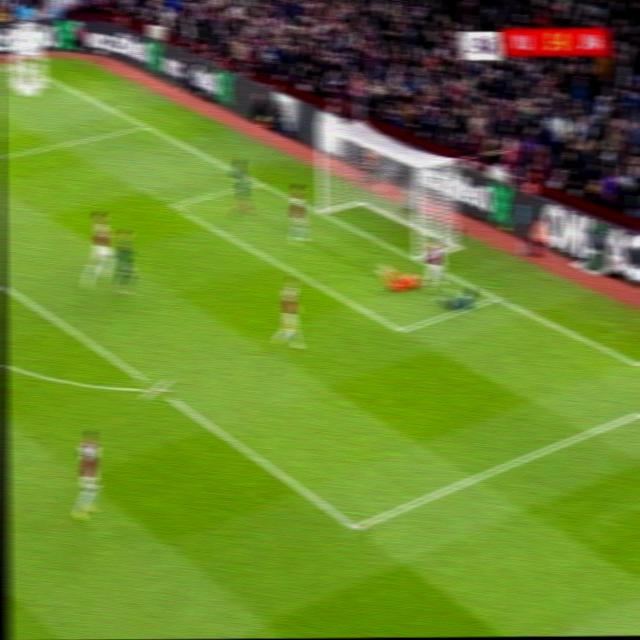bigarea_bottom_inner: (344, 509, 371, 543)
bigarea_top_outter: (135, 115, 158, 135)
bottom_arc_area_intersection: (142, 371, 172, 403)
smallarea_bottom_inner: (389, 312, 415, 345)
smallarea_bottom_outter: (483, 281, 510, 310)
smallarea_top_inner: (159, 192, 186, 218)
smallarea_top_outter: (250, 170, 273, 194)
